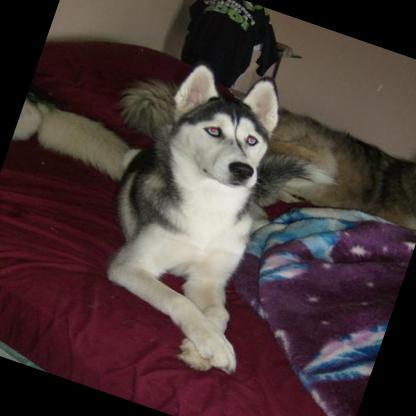Eskimo_dog: (58, 39, 333, 385)
